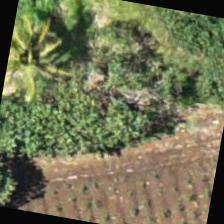Kelapa_Sawit: (2, 0, 84, 99)
